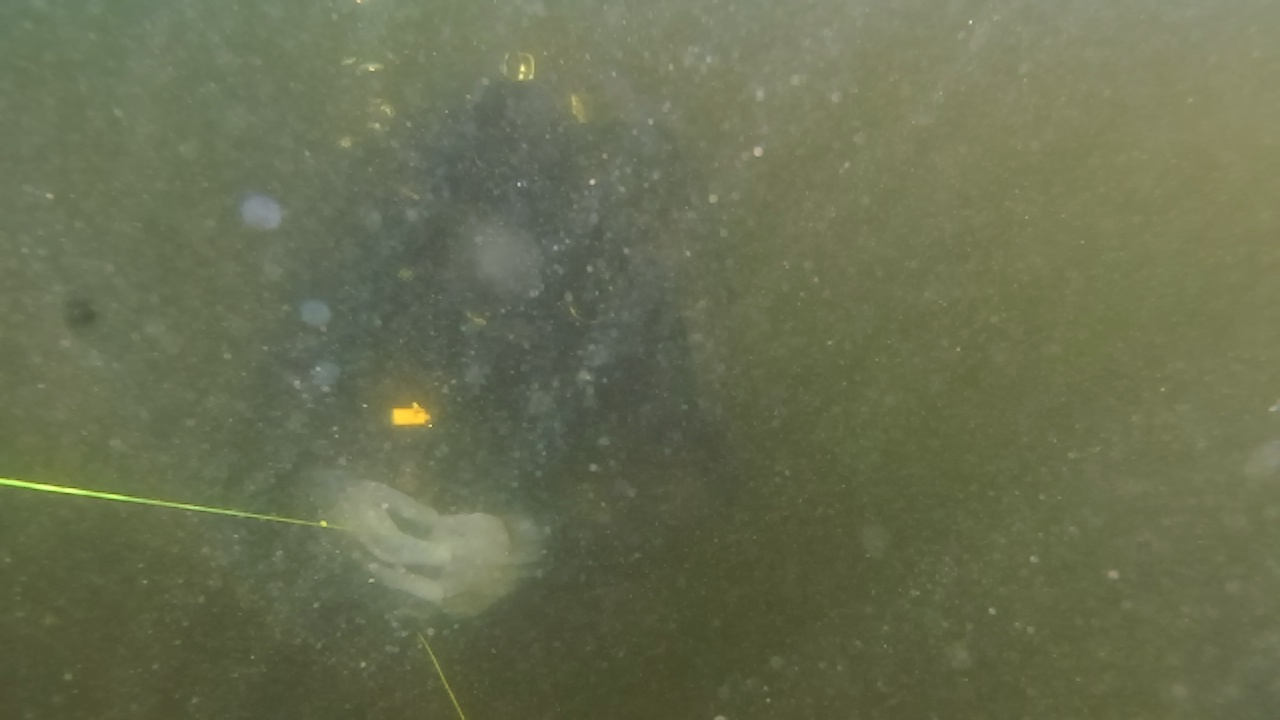Diver: (254, 52, 770, 636)
Hand: (278, 462, 452, 618), (412, 492, 532, 636)
